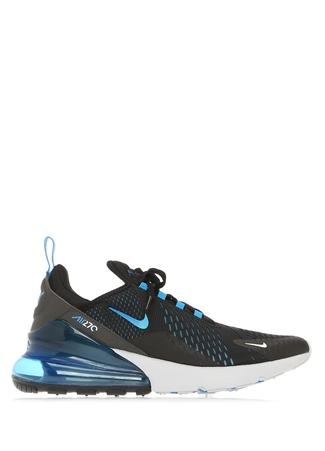nike: (110, 302, 150, 333)
